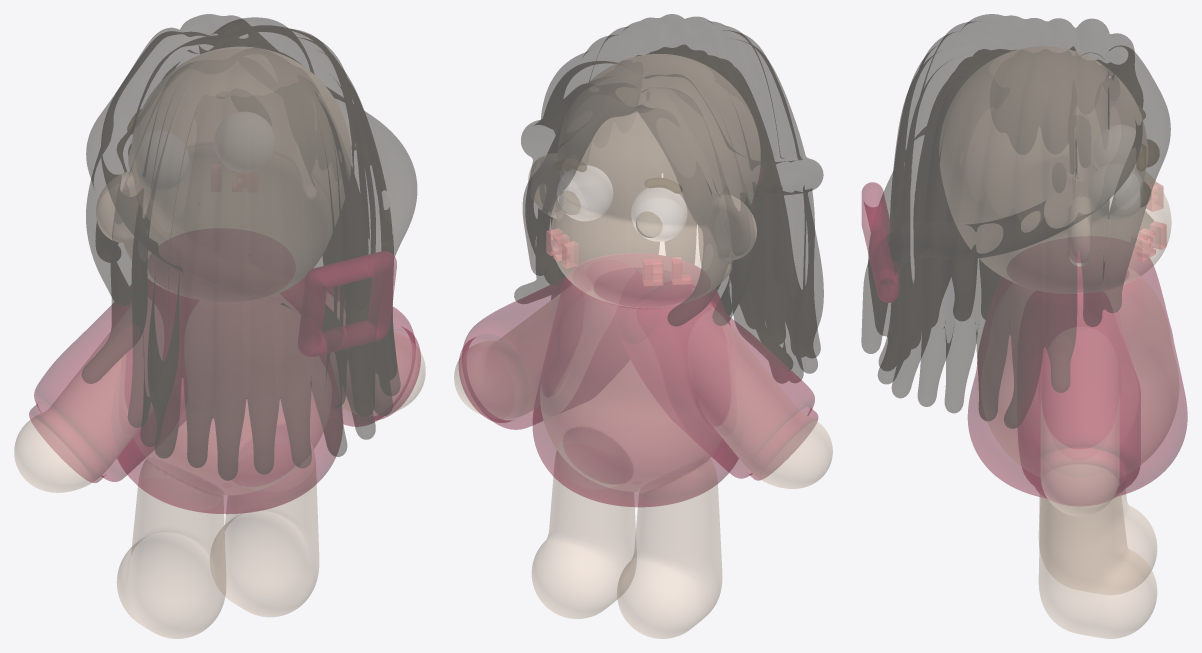
File: tamako.glb
3 renders of one model, left to right at view 1: azimuth 30°, elevation 25°; view 2: azimuth 150°, elevation 25°; view 3: azimuth 270°, elevation 25°, orthographic. The views are drawn at different scales.
Visible parts, largest first — view 1: hair 2, body, sleeve R, Area (1), square, sleeve L; view 2: body, hair 2, Area (1), sleeve R, sleeve L, eyes, Area (2); view 3: hair 2, body, sleeve L, Area (1), square, eyes, Area (2).
Boxes of the visible parts, <box> form: hair 2: <box>82,14,416,480</box>; body: <box>14,47,425,638</box>; sleeve R: <box>29,285,185,482</box>; Area (1): <box>117,378,342,513</box>; square: <box>298,251,396,356</box>; sleeve L: <box>314,288,420,426</box>; body: <box>454,54,832,638</box>; hair 2: <box>514,14,823,383</box>; Area (1): <box>533,253,738,506</box>; sleeve R: <box>618,281,817,480</box>; sleeve L: <box>459,261,653,429</box>; eyes: <box>553,158,686,241</box>; Area (2): <box>546,228,691,285</box>; hair 2: <box>861,14,1170,428</box>; body: <box>939,46,1178,638</box>; sleeve L: <box>1017,282,1140,506</box>; Area (1): <box>968,251,1187,497</box>; square: <box>862,182,898,302</box>; eyes: <box>1109,106,1159,211</box>; Area (2): <box>1131,182,1166,261</box>.
Size of the model in its own units: 606 by 877 by 453.
Materials: 8 (8 with a texture image).
